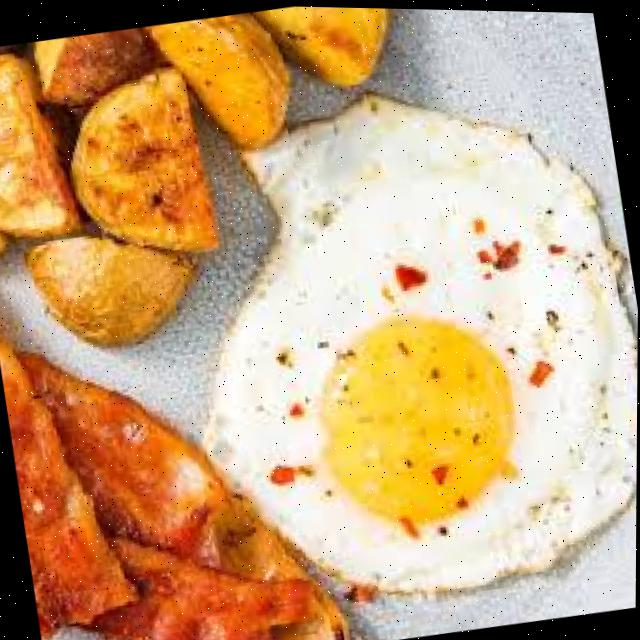Bacon: (19, 355, 229, 553), (0, 343, 136, 636), (91, 541, 310, 640)
Egg: (206, 95, 638, 590)
